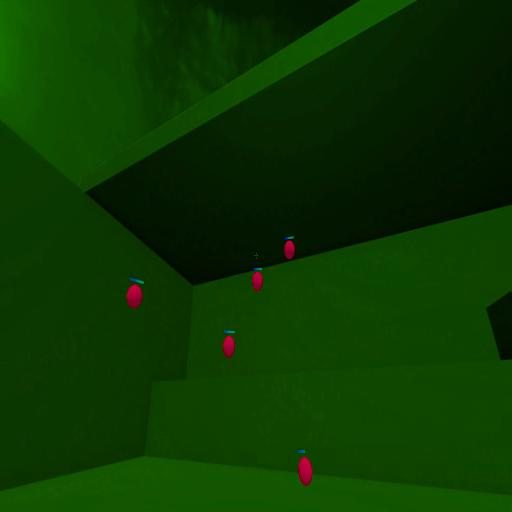Crosshair: (253, 251, 260, 261)
Target: (297, 454, 313, 486), (126, 283, 143, 311), (223, 337, 235, 360), (251, 272, 263, 292), (284, 240, 295, 260)
